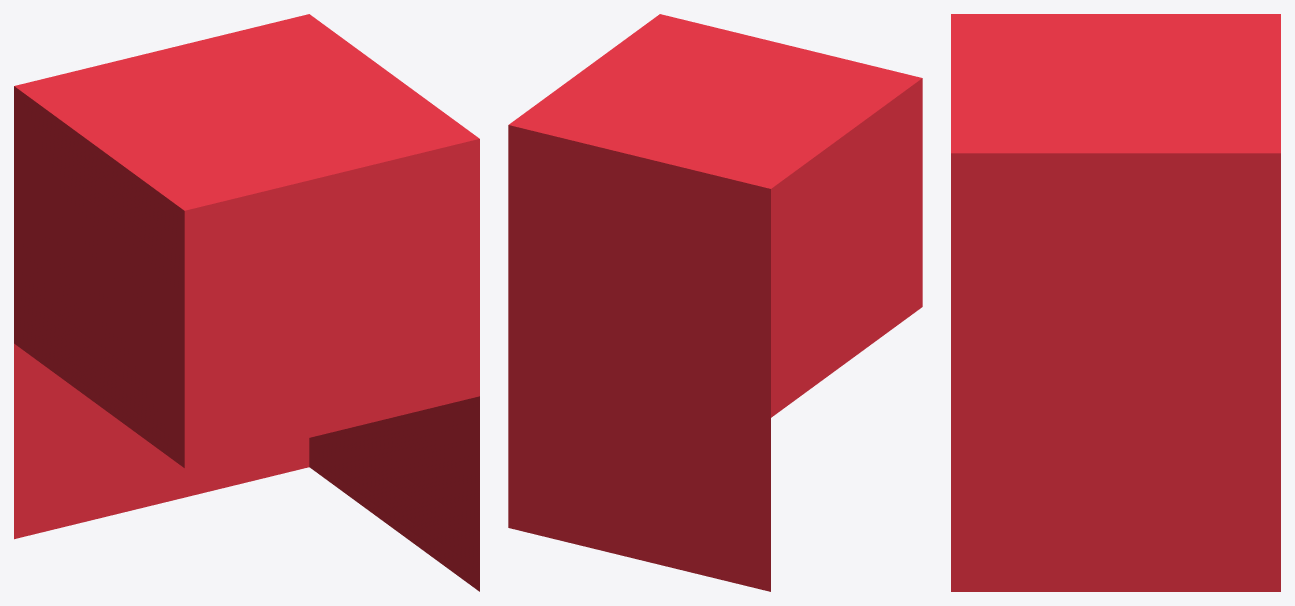
Rendered from InnerCorner (Wall).fbx.
The picture shows the model from 3 angles, left to right: view 1: azimuth 30°, elevation 25°; view 2: azimuth 150°, elevation 25°; view 3: azimuth 270°, elevation 25°; orthographic projection. The views are drawn at different scales.
Parts seen in each view (by area): view 1: innerCorner002; view 2: innerCorner002; view 3: innerCorner002.
Boxes of the visible parts, bbox=[...] form: innerCorner002: bbox=[14, 14, 479, 591]; innerCorner002: bbox=[508, 14, 922, 591]; innerCorner002: bbox=[951, 14, 1280, 591].
Size of the model in its own units: 3.94 by 5.77 by 3.94.
